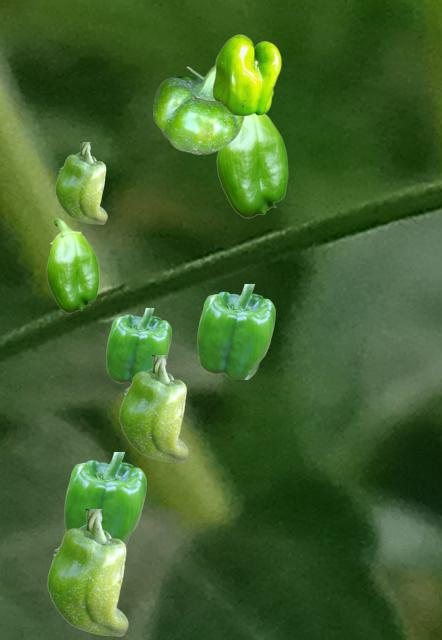bell_pepper: (47, 509, 127, 635), (153, 65, 243, 153), (64, 452, 145, 545), (216, 114, 287, 217), (197, 284, 274, 378), (119, 355, 187, 461), (212, 34, 280, 115), (46, 218, 98, 312), (106, 308, 170, 383), (55, 142, 106, 223)
